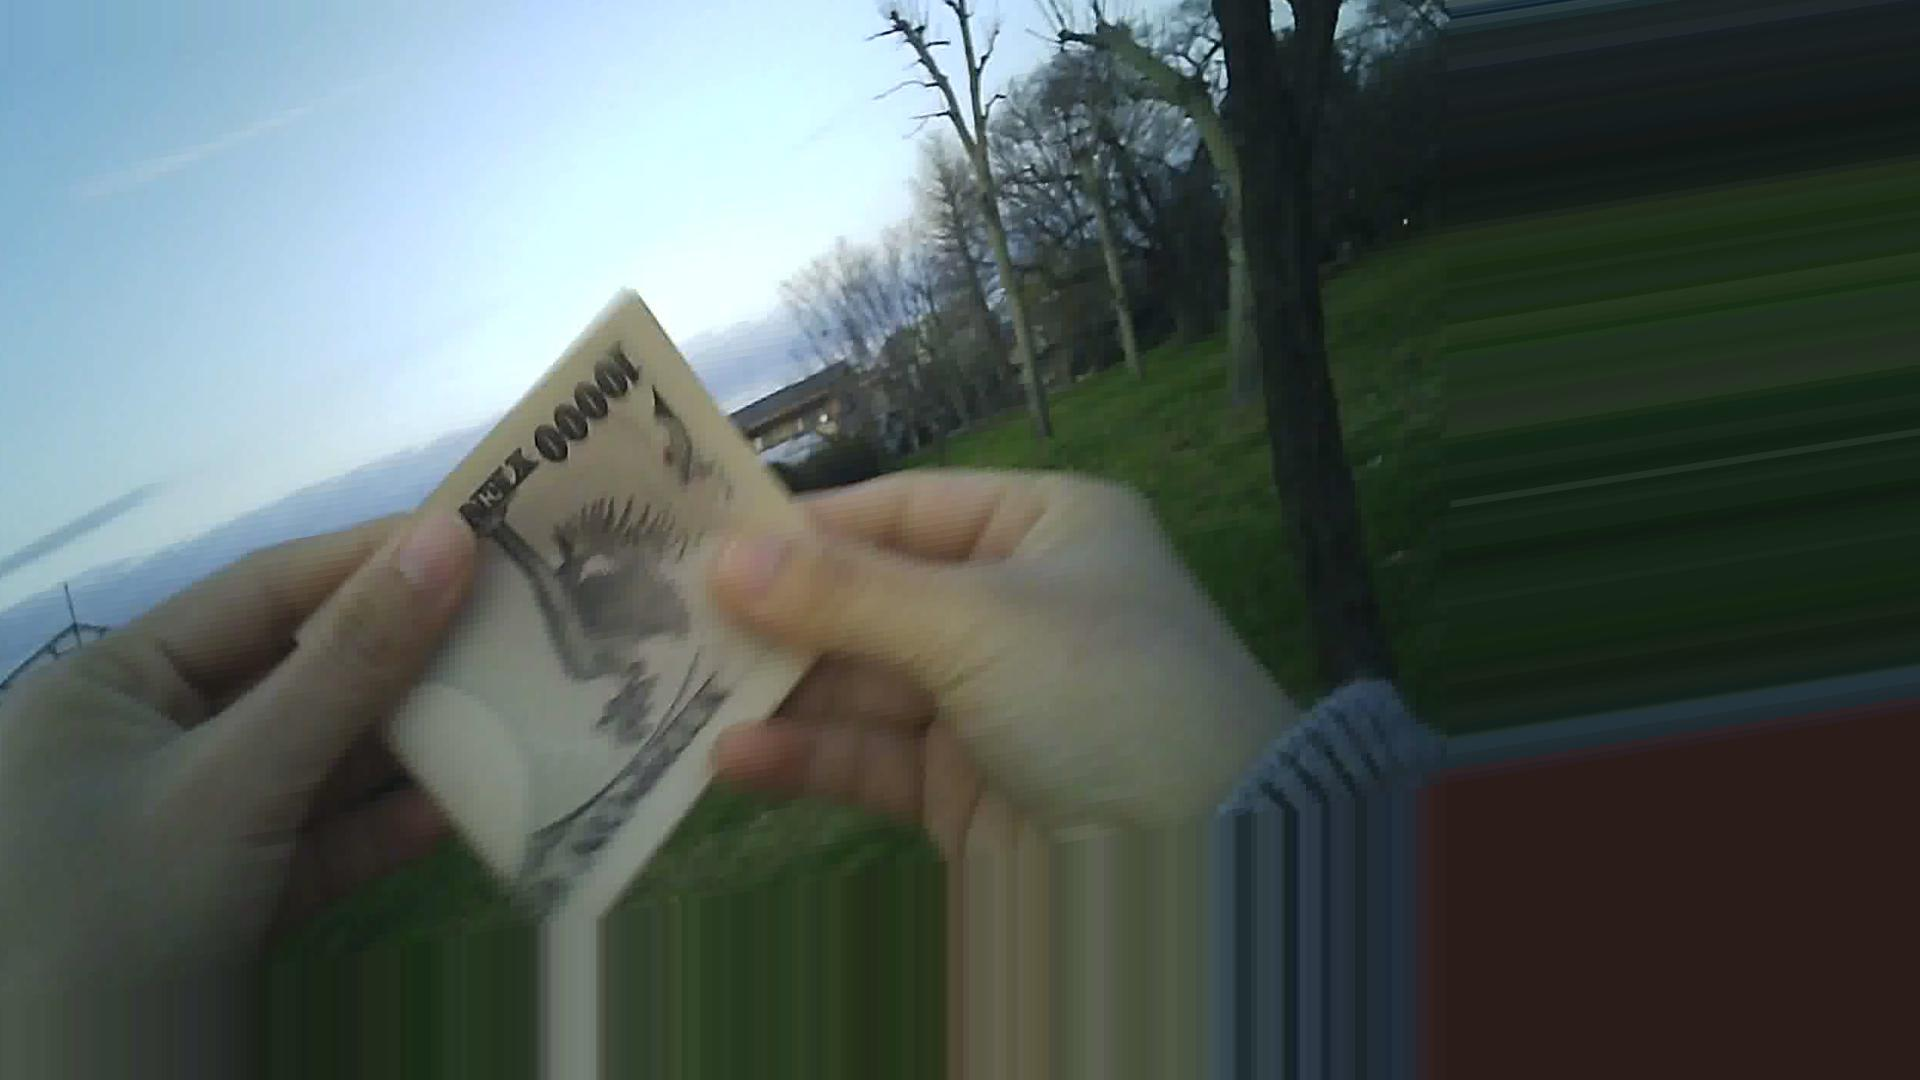10,000 Yen: (276, 285, 866, 880)
